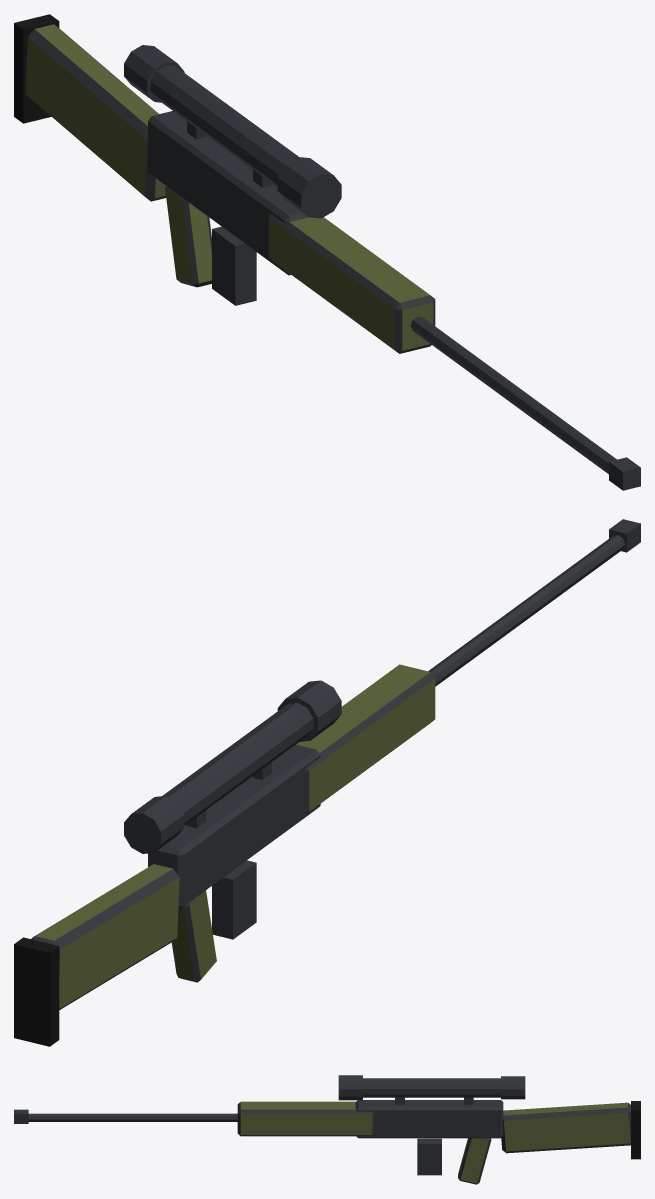
The model's file is WPN_DMR.fbx.
3 views of the same model, one above another, from view 1: azimuth 30°, elevation 25°; view 2: azimuth 150°, elevation 25°; view 3: azimuth 270°, elevation 25° (orthographic). The views are drawn at different scales.
Parts seen in each view (by area): view 1: WPN_DMR__BODY; view 2: WPN_DMR__BODY; view 3: WPN_DMR__BODY.
Boxes of the visible parts, box(x1,y1,x2,y2) form: WPN_DMR__BODY: box(14, 14, 640, 490); WPN_DMR__BODY: box(14, 519, 640, 1046); WPN_DMR__BODY: box(14, 1075, 640, 1184).
Bounding box in the file's own units: 0.05 × 0.2386 × 1.27.
